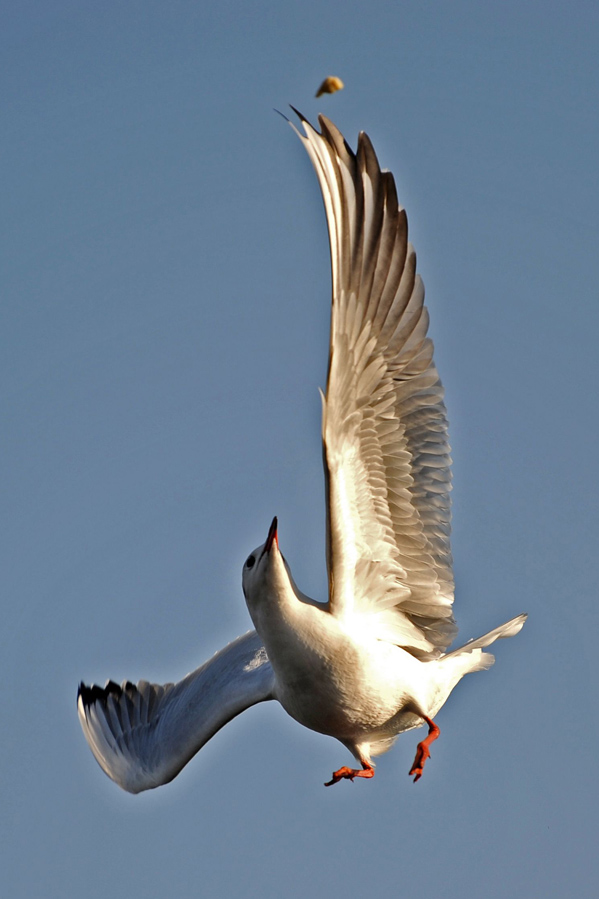bird: (68, 81, 527, 819)
